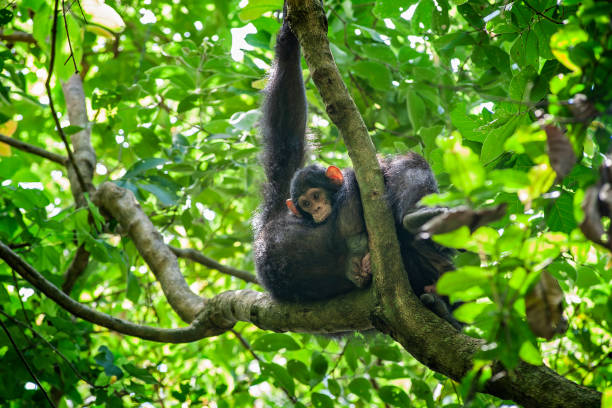chimpanzee: (285, 161, 344, 234)
